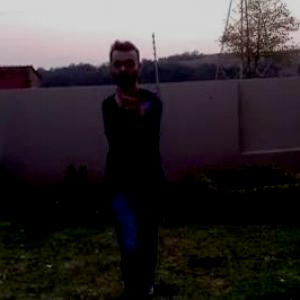takeoff-hand: (116, 78, 151, 120)
